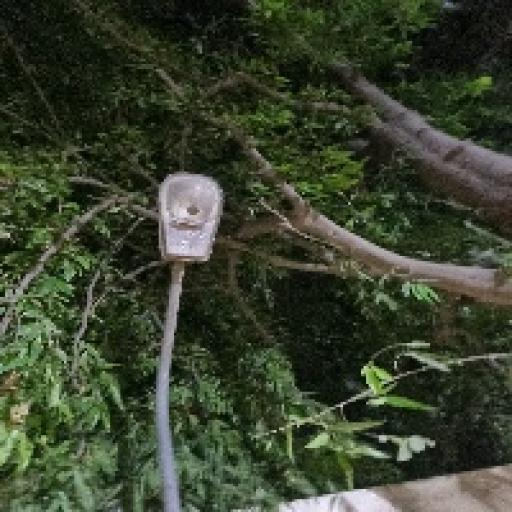Not Working: (142, 154, 231, 274)
